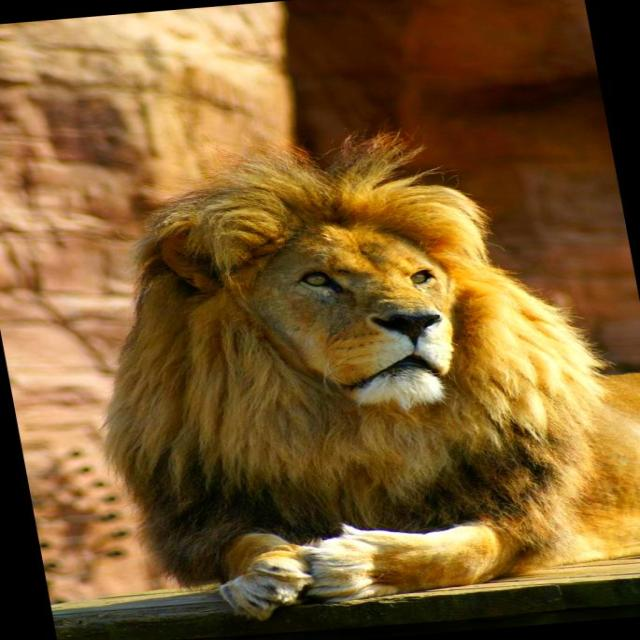Lion: (45, 102, 639, 629)
